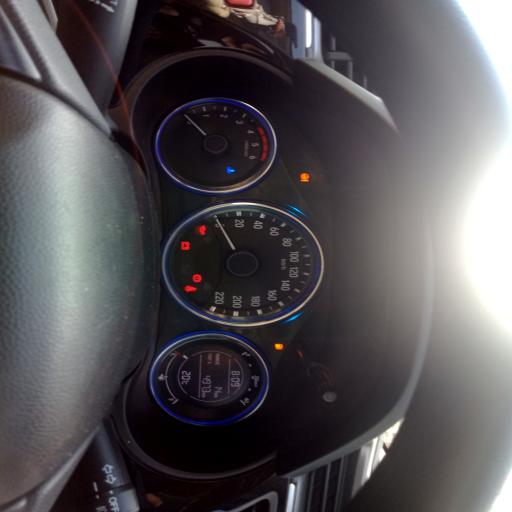brake_system_fault: (193, 274, 202, 282)
oil: (200, 226, 206, 234)
tachometer: (154, 96, 276, 195)
vehicle_charging: (182, 242, 190, 250)
